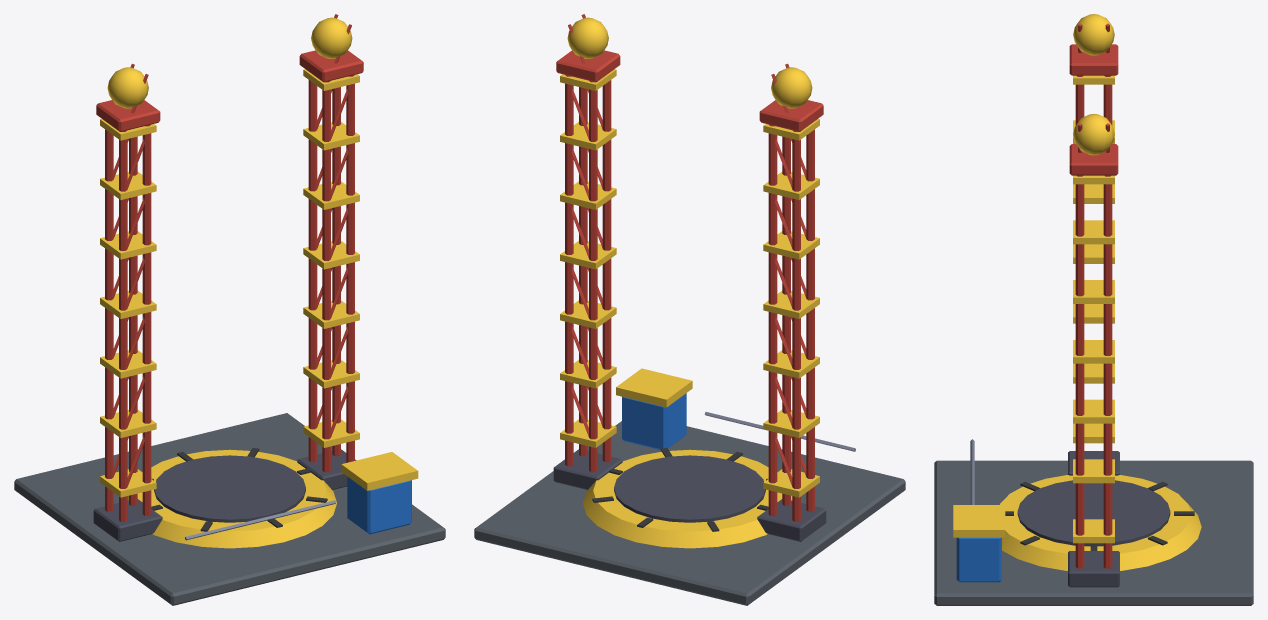
The model's file is reverse-bungee.glb.
The picture shows the model from 3 angles, left to right: view 1: azimuth 30°, elevation 25°; view 2: azimuth 150°, elevation 25°; view 3: azimuth 270°, elevation 25°; orthographic projection.
Parts seen in each view (by area): view 1: model; view 2: model; view 3: model.
Part boxes in pixels (bbox=[...]): model: bbox=[14, 14, 445, 605]; model: bbox=[474, 14, 905, 605]; model: bbox=[934, 14, 1253, 605].
Size of the model in its own units: 1.84 by 3.01 by 1.84.
1 material, 1 textured.
